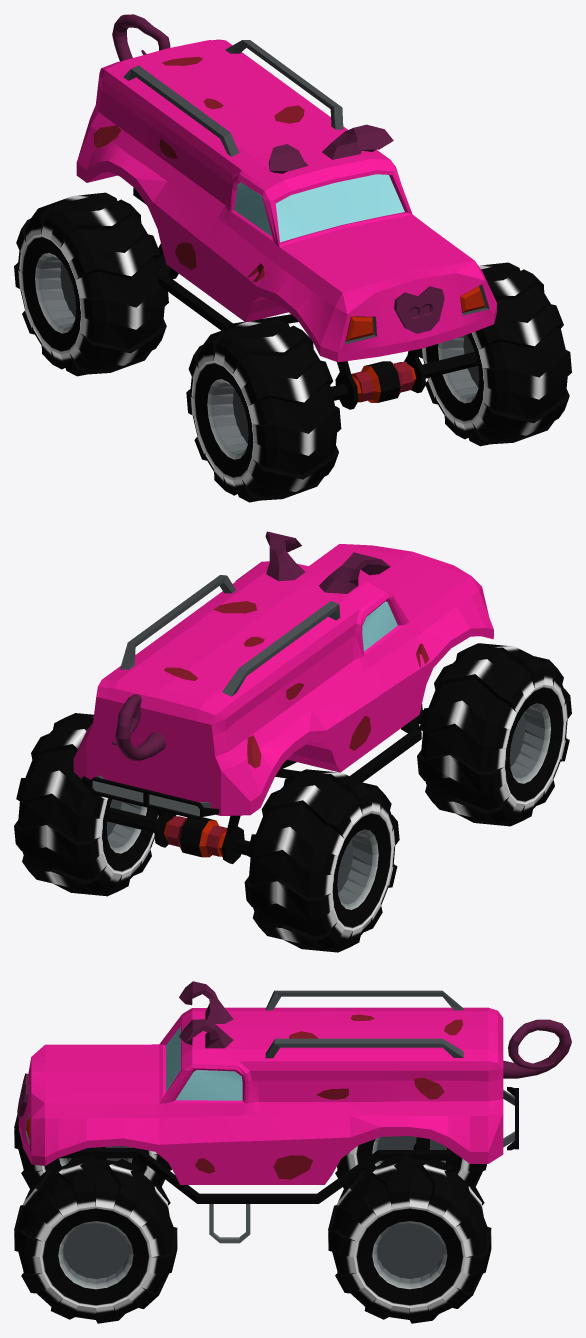
File: truck 6.fbx
3 renders of one model, top to bottom at view 1: azimuth 30°, elevation 25°; view 2: azimuth 150°, elevation 25°; view 3: azimuth 270°, elevation 25°, orthographic. The views are drawn at different scales.
Parts seen in each view (by area): view 1: Monster_Truck_Body_9_Pig_0, Wheel_FR_9_Pig_0, Wheel_FR_9_Pig_0.002, Wheel_FR_9_Pig_0.001; view 2: Monster_Truck_Body_9_Pig_0, Wheel_FR_9_Pig_0.002, Wheel_FR_9_Pig_0, Wheel_FR_9_Pig_0.003; view 3: Monster_Truck_Body_9_Pig_0, Wheel_FR_9_Pig_0.001, Wheel_FR_9_Pig_0.003, Wheel_FR_9_Pig_0.002, Wheel_FR_9_Pig_0.
Boxes of the visible parts, box(x1,y1,x2,y2) form: Monster_Truck_Body_9_Pig_0: box(76, 14, 496, 409); Wheel_FR_9_Pig_0: box(186, 318, 341, 502); Wheel_FR_9_Pig_0.002: box(14, 192, 168, 376); Wheel_FR_9_Pig_0.001: box(419, 262, 571, 446); Monster_Truck_Body_9_Pig_0: box(73, 531, 493, 863); Wheel_FR_9_Pig_0.002: box(244, 769, 399, 952); Wheel_FR_9_Pig_0: box(417, 643, 571, 826); Wheel_FR_9_Pig_0.003: box(14, 713, 158, 896); Monster_Truck_Body_9_Pig_0: box(17, 981, 571, 1243); Wheel_FR_9_Pig_0.001: box(14, 1155, 177, 1323); Wheel_FR_9_Pig_0.003: box(328, 1155, 491, 1323); Wheel_FR_9_Pig_0.002: box(335, 1136, 486, 1188); Wheel_FR_9_Pig_0: box(14, 1115, 171, 1188).
Size of the model in its own units: 33.56 by 29.13 by 57.13.
1 material, 1 textured.
